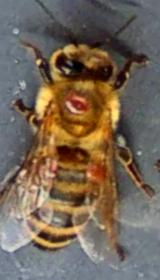varroa_mite: (54, 84, 101, 123), (78, 155, 114, 186)
